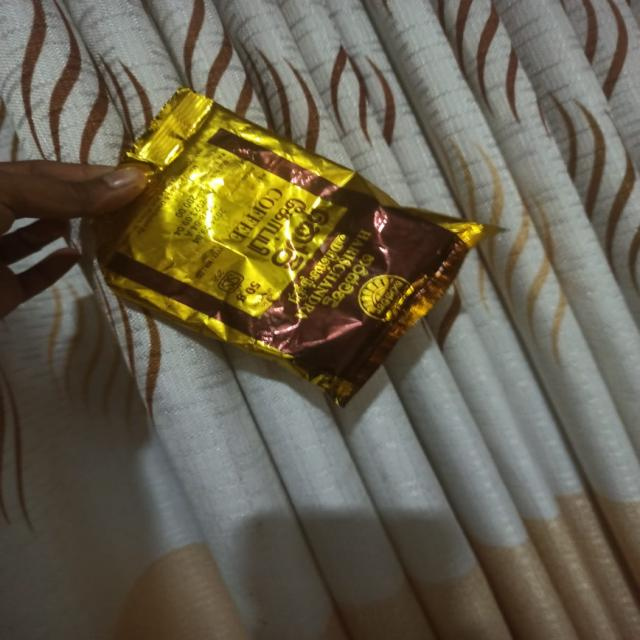Harischandra Coffee: (88, 109, 500, 373)
